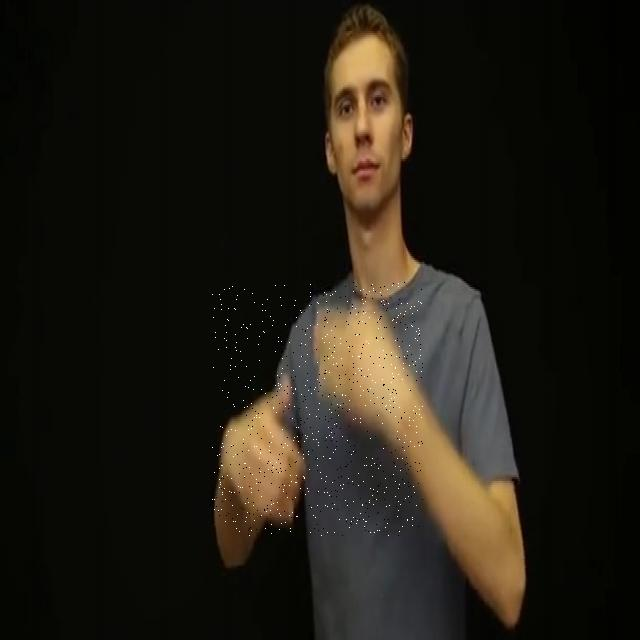bread: (212, 282, 423, 536)
